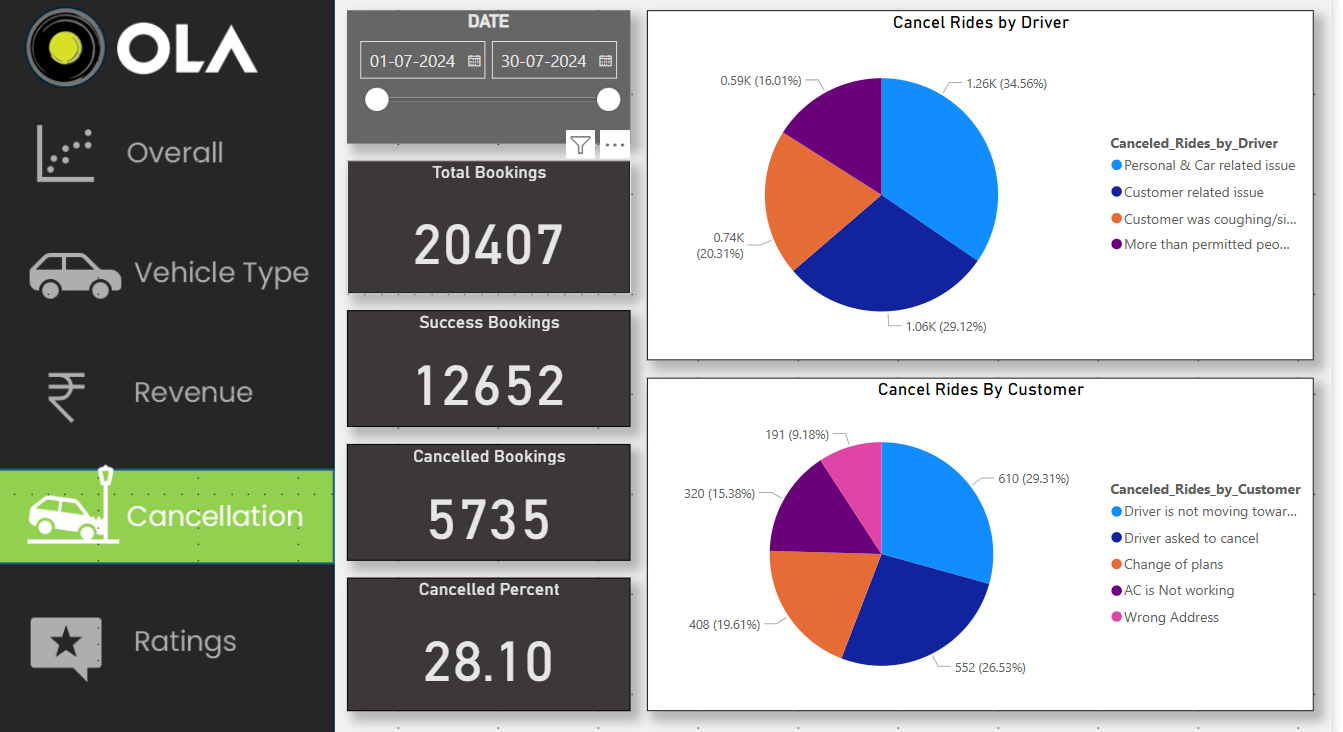

What the dashboard file says about the page in this screenshot:
{"tool":"powerbi","page":{"name":"Cancellation","canvas":[1280,720],"ordinal":3},"visuals":[{"type":"actionButton","box":[0,112,320,96],"z":0},{"type":"actionButton","box":[0,224,320,96],"z":1000},{"type":"actionButton","box":[0,336,320,96],"z":2000},{"type":"actionButton","box":[0,576,320,96],"z":3000},{"type":"pieChart","title":"Cancel Rides by Driver","fields":{"Y":["CountNonNull(Booking1.Canceled_Rides_by_Driver)"],"Category":["Booking1.Canceled_Rides_by_Driver"]},"box":[624,16,640,336],"z":4000},{"type":"pieChart","title":"Cancel Rides By Customer ","fields":{"Category":["Booking1.Canceled_Rides_by_Customer"],"Y":["CountNonNull(Booking1.Canceled_Rides_by_Customer)"]},"box":[624,368,640,320],"z":5000},{"type":"slicer","title":"DATE","fields":{"Values":["Booking1.Date"]},"box":[336,16,272,128],"z":6000},{"type":"card","title":"Total Bookings","fields":{"Values":["CountNonNull(Booking1.Booking_ID)"]},"box":[336,160,272,128],"z":7000},{"type":"card","title":"Success Bookings","fields":{"Values":["CountNonNull(Booking1.Booking_ID)"]},"box":[336,304,272,112],"z":8000},{"type":"card","title":"Cancelled Bookings","fields":{"Values":["CountNonNull(Booking1.Booking_ID)"]},"box":[336,432,272,112],"z":9000},{"type":"card","title":"Cancelled Percent","fields":{"Values":["Booking1.Canceled_percent"]},"box":[336,560,272,128],"z":10000}]}

Visuals, with their boxes in screenshot pixels (x1, y1, x2, y2):
actionButton: 0,109,329,209
actionButton: 0,226,329,325
actionButton: 0,342,329,441
actionButton: 0,591,329,691
"Cancel Rides by Driver" pieChart: 644,10,1309,358
"Cancel Rides By Customer " pieChart: 644,375,1309,707
"DATE" slicer: 345,10,628,142
"Total Bookings" card: 345,159,628,292
"Success Bookings" card: 345,309,628,425
"Cancelled Bookings" card: 345,441,628,558
"Cancelled Percent" card: 345,574,628,707
